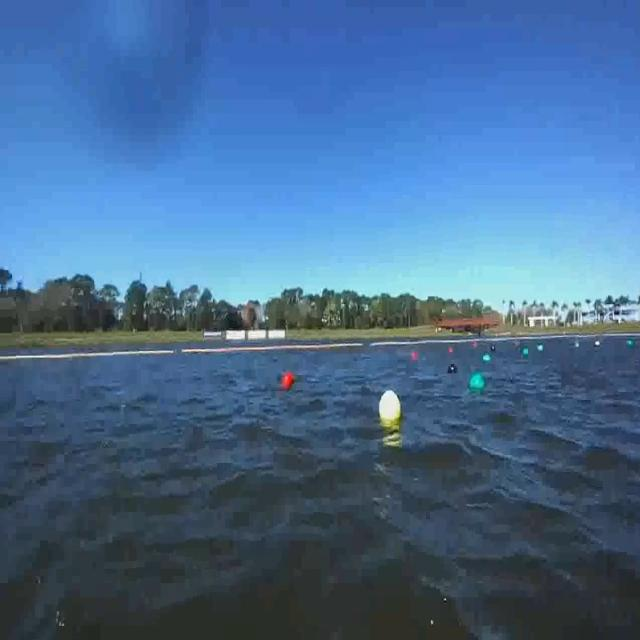black-buoy: (449, 364, 458, 373)
green-buoy: (468, 374, 484, 394), (484, 353, 492, 362), (628, 340, 635, 350)
red-buoy: (282, 374, 295, 391)
yellow-buoy: (378, 393, 398, 426)
